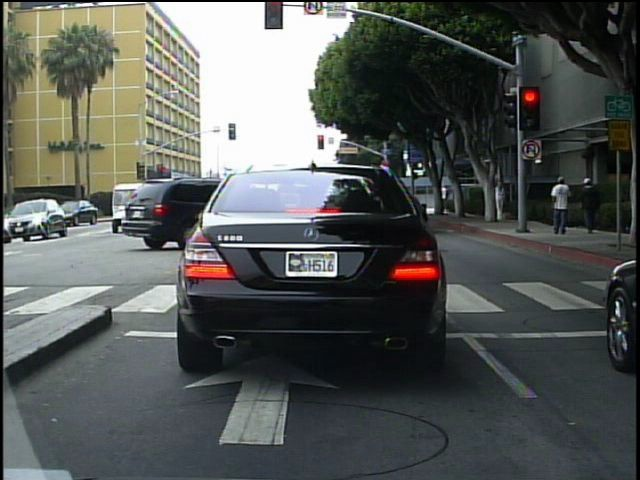person: (582, 170, 607, 240), (550, 173, 577, 235), (496, 179, 509, 223), (437, 179, 451, 215)
